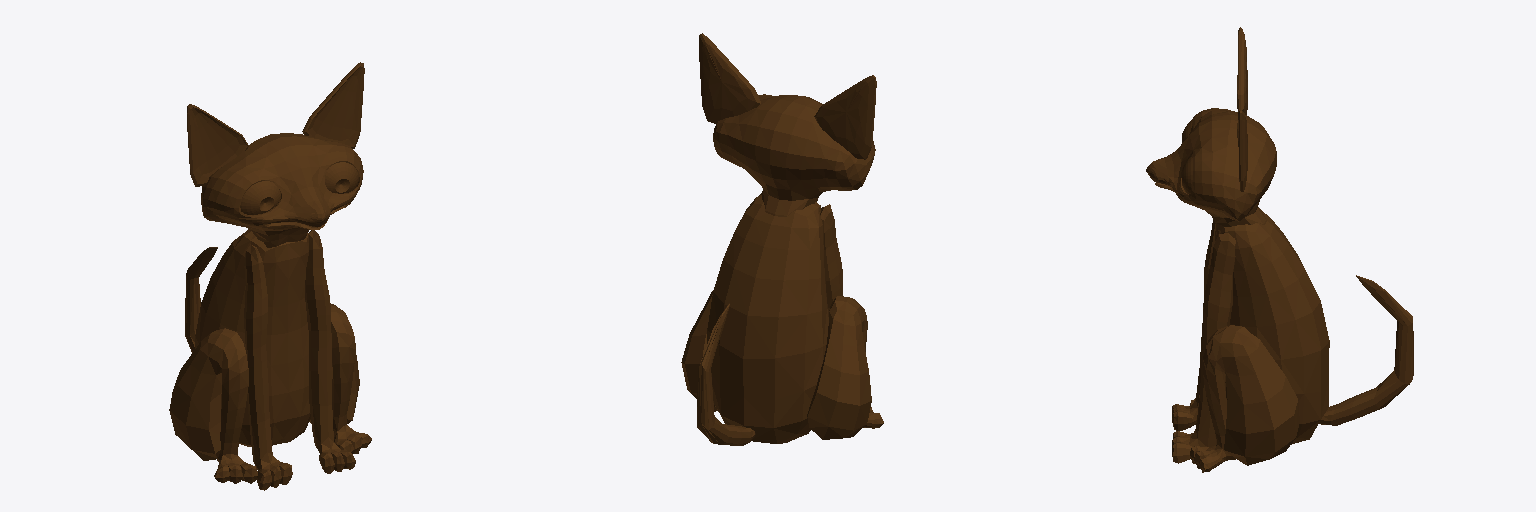
Rendered from merchdog.obj.
3 renders of one model, left to right at view 1: azimuth 30°, elevation 25°; view 2: azimuth 150°, elevation 25°; view 3: azimuth 270°, elevation 25°, orthographic.
Visible parts, largest first — view 1: Mesh polySurface1; view 2: Mesh polySurface1; view 3: Mesh polySurface1.
Boxes of the visible parts, <box> form: Mesh polySurface1: <box>169,62,371,490</box>; Mesh polySurface1: <box>681,33,883,445</box>; Mesh polySurface1: <box>1146,27,1413,472</box>.
Bounding box in the file's own units: 2.44 × 4.87 × 3.16.